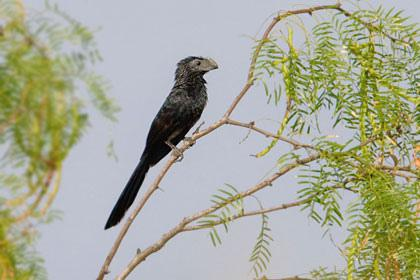004.Groove_billed_Ani: (104, 56, 219, 232)
